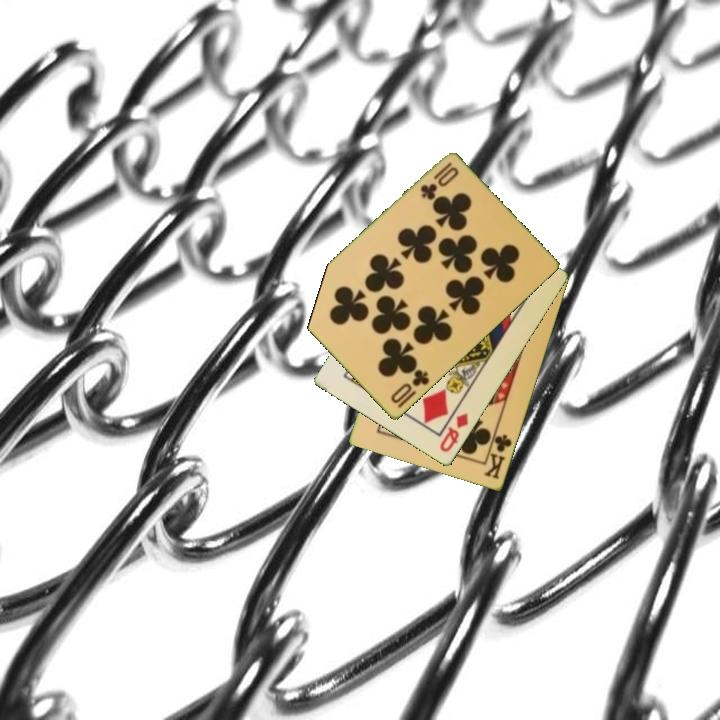10c: (387, 366, 432, 407), (417, 159, 455, 203)
Kc: (481, 426, 515, 483)
Qd: (436, 410, 472, 456)
